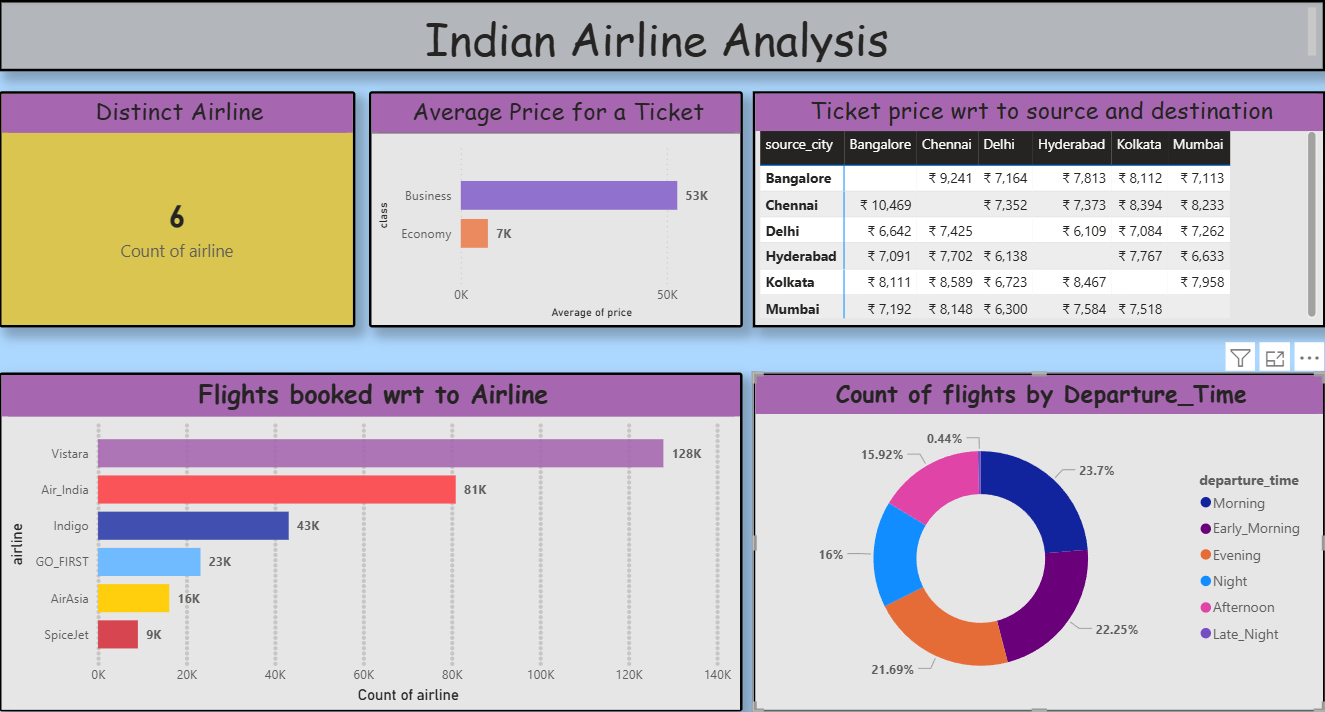

What the dashboard file says about the page in this screenshot:
{"tool":"powerbi","page":{"name":"Page 1","canvas":[1280,720],"ordinal":0},"visuals":[{"type":"card","title":"Distinct Airline","fields":{"Values":["Count(Indian Airlines (1).airline)"]},"box":[0,88.1,343.8,228],"z":0},{"type":"clusteredBarChart","title":"Flights booked wrt to Airline ","fields":{"Category":["Indian Airlines (1).airline"],"Y":["CountNonNull(Indian Airlines (1).airline)"]},"box":[0,359.5,717.8,328.2],"z":1000},{"type":"barChart","title":"Average Price for a Ticket","fields":{"Category":["Indian Airlines (1).class"],"Y":["Avg(Indian Airlines (1).price)"]},"box":[357.1,88.1,360.7,228],"z":2000},{"type":"pivotTable","title":"Ticket price wrt to source and destination","fields":{"Columns":["Indian Airlines (1).destination_city"],"Values":["Median(Indian Airlines (1).price)"],"Rows":["Indian Airlines (1).source_city"]},"box":[727.5,88.1,552.5,228],"z":3000},{"type":"donutChart","title":"Count of flights by Departure_Time ","fields":{"Category":["Indian Airlines (1).departure_time"],"Y":["CountNonNull(Indian Airlines (1).departure_time)"]},"box":[727.5,359.5,552.5,328.2],"z":4000},{"type":"textbox","box":[0,0,1280,68.8],"z":5000}]}

Visuals, with their boxes in screenshot pixels (x1, y1, x2, y2):
"Distinct Airline" card: <region>17, 89, 364, 319</region>
"Flights booked wrt to Airline " clusteredBarChart: <region>17, 363, 742, 694</region>
"Average Price for a Ticket" barChart: <region>378, 89, 742, 319</region>
"Ticket price wrt to source and destination" pivotTable: <region>752, 89, 1309, 319</region>
"Count of flights by Departure_Time " donutChart: <region>752, 363, 1309, 694</region>
textbox: <region>17, 0, 1309, 69</region>
